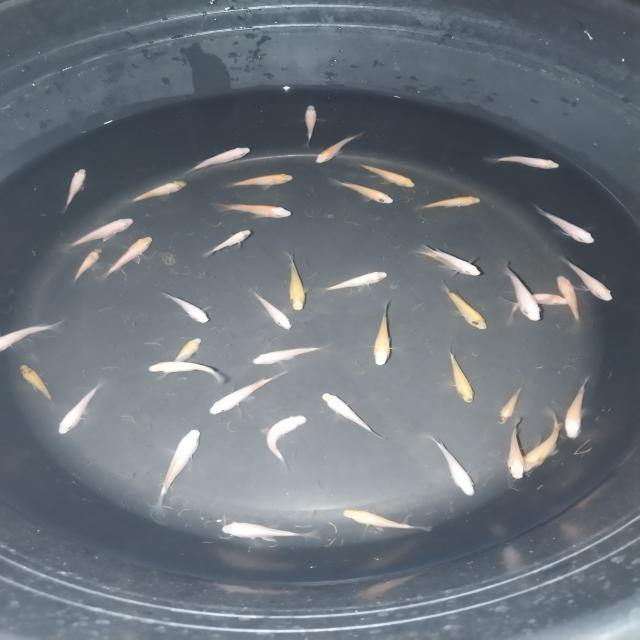nila: (148, 426, 208, 509), (204, 371, 294, 416), (426, 432, 479, 498), (52, 215, 138, 254), (520, 407, 565, 481), (532, 200, 603, 246), (320, 391, 388, 438), (54, 382, 108, 440), (340, 506, 433, 535), (562, 255, 615, 304), (102, 232, 156, 280), (261, 414, 310, 466), (501, 291, 568, 328), (323, 180, 395, 213), (444, 284, 491, 334), (218, 519, 319, 542), (352, 158, 419, 192), (184, 143, 252, 176), (244, 341, 326, 368), (419, 243, 482, 278), (245, 288, 295, 332), (506, 264, 542, 324), (142, 362, 228, 387), (156, 336, 207, 377), (52, 164, 90, 219), (367, 303, 398, 369), (397, 246, 465, 276), (309, 130, 364, 167), (444, 345, 479, 403), (156, 292, 212, 328), (0, 320, 65, 351), (210, 200, 296, 223), (319, 270, 391, 296), (200, 226, 253, 261), (563, 378, 591, 442), (284, 249, 312, 312), (482, 152, 562, 174), (125, 178, 187, 204), (18, 359, 55, 402), (557, 272, 588, 322), (504, 418, 528, 482), (414, 193, 484, 214), (492, 384, 528, 424), (226, 170, 297, 190), (69, 246, 104, 286), (300, 99, 318, 148)
